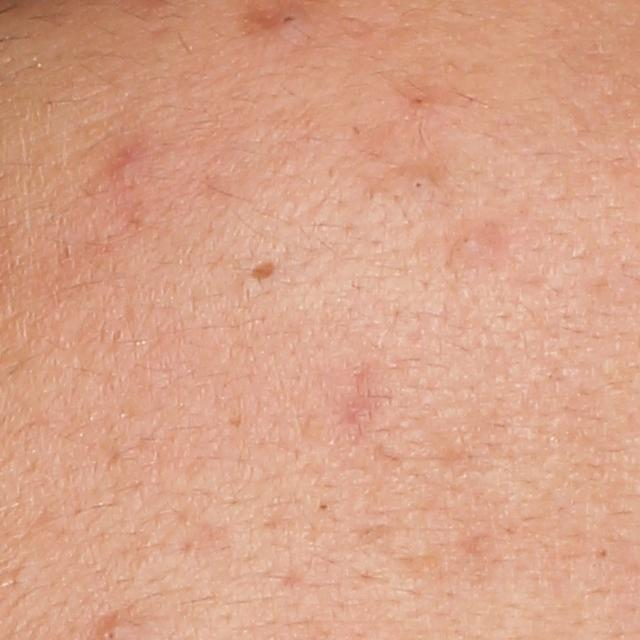atrophic_scar: (248, 260, 276, 282)
comedo: (456, 230, 484, 253), (314, 496, 332, 515), (412, 175, 428, 191)
